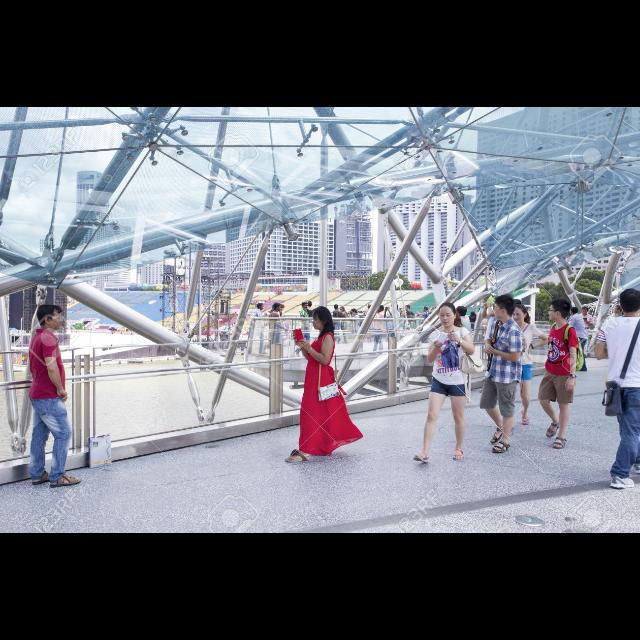head: (36, 304, 62, 330), (494, 296, 516, 320), (548, 299, 572, 321), (438, 302, 458, 328), (312, 306, 330, 330), (512, 304, 528, 324), (492, 297, 503, 311), (456, 306, 468, 318), (570, 308, 580, 316), (581, 306, 589, 316), (274, 303, 282, 313), (614, 306, 622, 314), (392, 302, 398, 310), (351, 308, 357, 316), (302, 302, 308, 310), (279, 304, 285, 312), (423, 306, 429, 312), (378, 306, 384, 312), (258, 304, 264, 310), (406, 304, 410, 312), (308, 301, 312, 307), (430, 308, 434, 312), (334, 306, 338, 310), (340, 308, 344, 312)
person: (282, 305, 366, 467), (410, 300, 486, 466), (24, 304, 84, 488), (476, 292, 528, 456), (536, 296, 586, 452), (495, 302, 553, 431), (478, 292, 514, 396), (564, 306, 590, 374), (452, 306, 474, 384), (267, 302, 291, 361), (367, 303, 387, 357), (384, 299, 404, 351), (346, 308, 366, 356), (577, 304, 595, 354), (610, 304, 628, 354), (252, 302, 268, 356), (298, 300, 312, 352), (399, 304, 416, 346), (415, 304, 431, 346), (272, 302, 286, 350), (338, 305, 352, 345), (330, 304, 342, 346), (304, 300, 316, 342), (427, 306, 441, 340)
